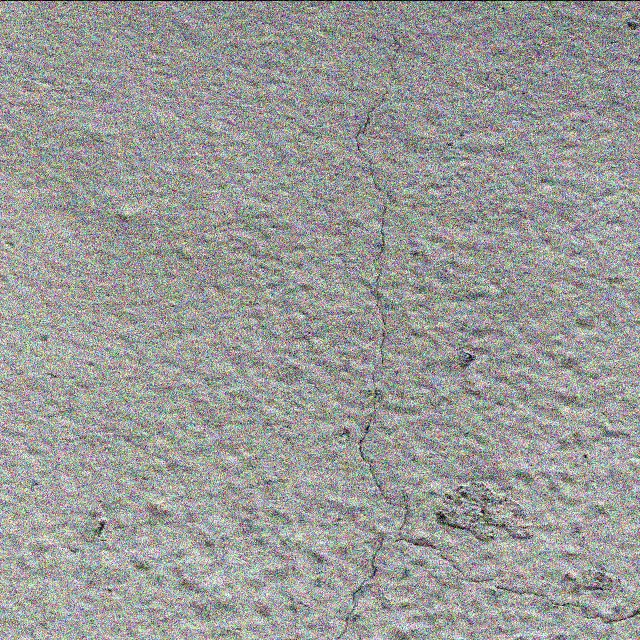SurfaceCrack: (277, 1, 463, 640)
